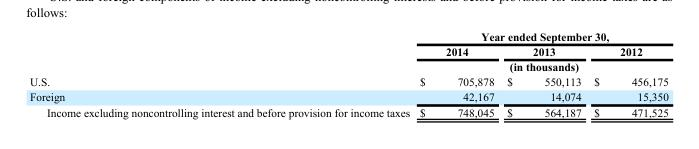table: (28, 29, 667, 118)
table column: (28, 29, 414, 118), (499, 29, 587, 118), (414, 29, 499, 118), (587, 29, 667, 118)
table column header: (28, 29, 667, 73)
table row: (28, 88, 667, 104), (28, 43, 667, 58), (28, 58, 667, 73), (28, 73, 667, 88), (28, 29, 667, 43), (28, 104, 667, 118)
table spanning cell: (414, 58, 667, 73), (414, 29, 667, 43)
